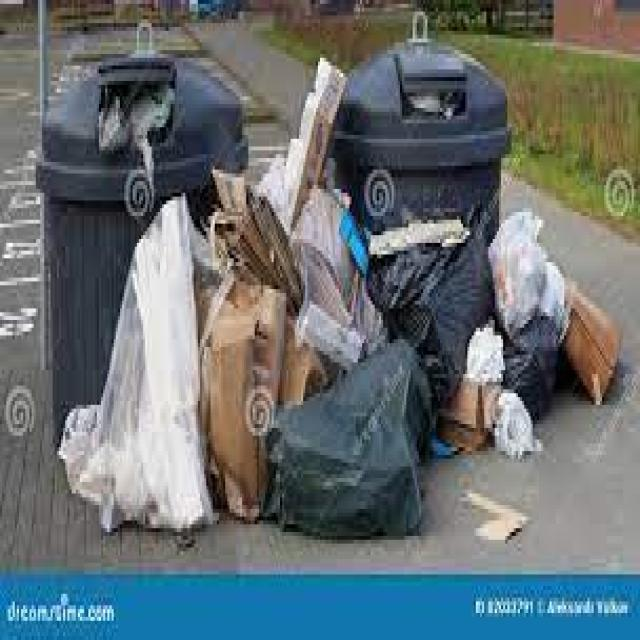cardboard: (194, 197, 314, 455), (261, 66, 343, 181), (554, 278, 625, 393)
plastic: (78, 205, 189, 524)
trash: (326, 247, 499, 524)
